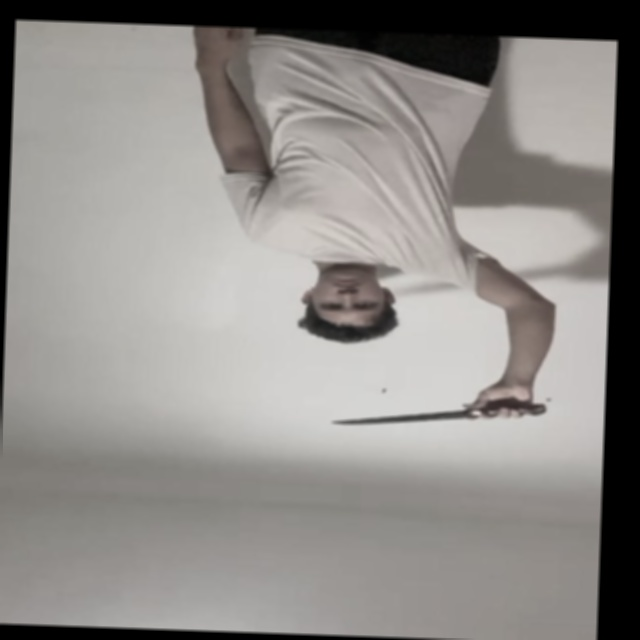Sharp-Object: (331, 406, 471, 430)
